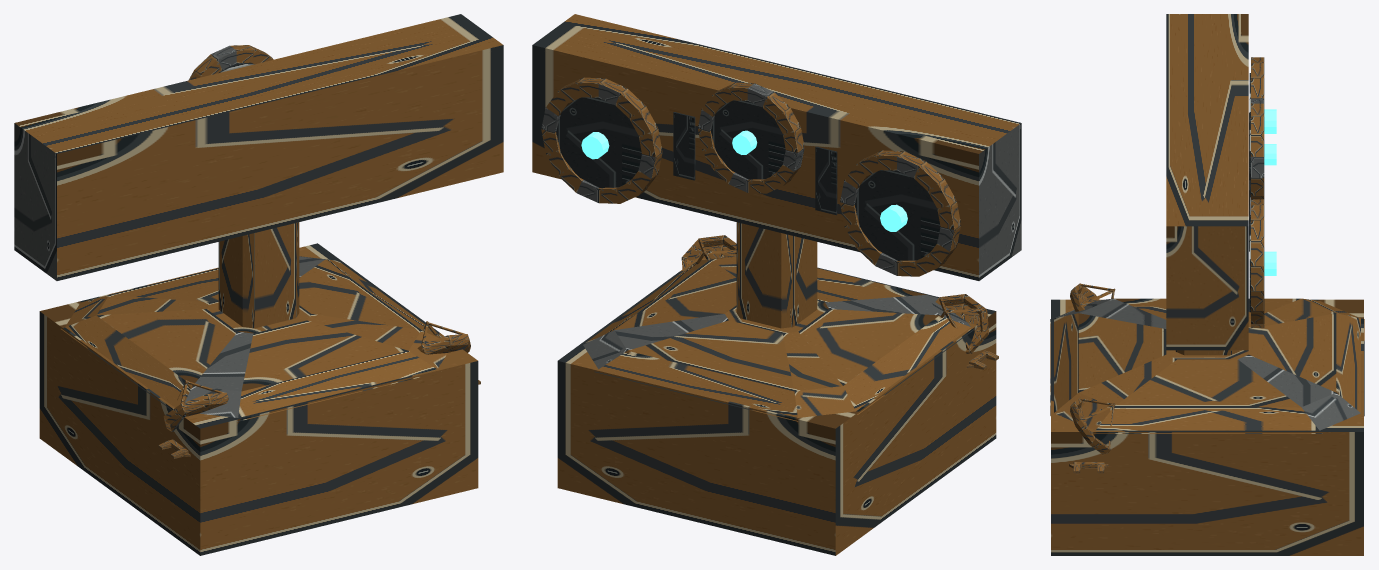
Rendered from large_sensor.glb.
3 renders of one model, left to right at view 1: azimuth 30°, elevation 25°; view 2: azimuth 150°, elevation 25°; view 3: azimuth 270°, elevation 25°, orthographic. The views are drawn at different scales.
Visible parts, largest first — view 1: STProp_large_sensor_Body; view 2: STProp_large_sensor_Body; view 3: STProp_large_sensor_Body.
Boxes of the visible parts, x1,y1,x2,y2 form: STProp_large_sensor_Body: (14,14,503,555); STProp_large_sensor_Body: (532,14,1021,555); STProp_large_sensor_Body: (1050,14,1364,555).
Size of the model in its own units: 7.42 by 6.29 by 4.64.
Materials: 5 (4 with a texture image).
